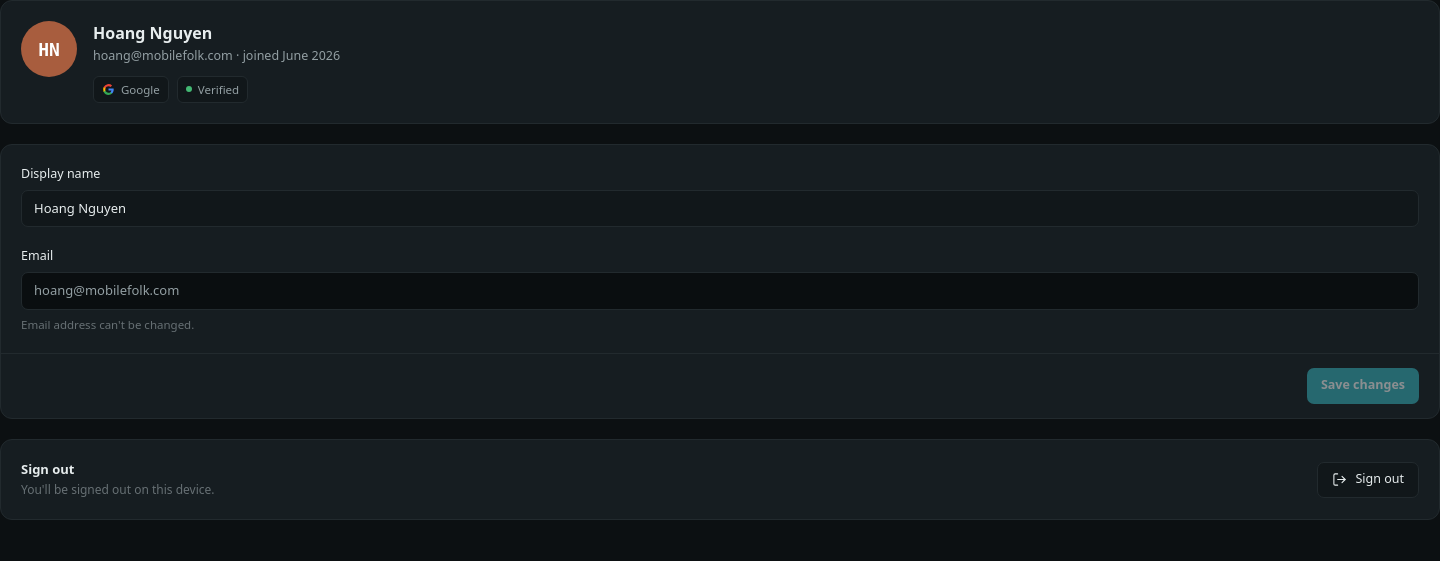
Test: account-settings S-002 — Account section › AS-007: clearing the display name and saving is refused; the stored name is unchanged (no updateUser)
The image size is (1440, 561).
Clear the field with test id "account-display-name" at (720, 209), box [21,190,1419,227]
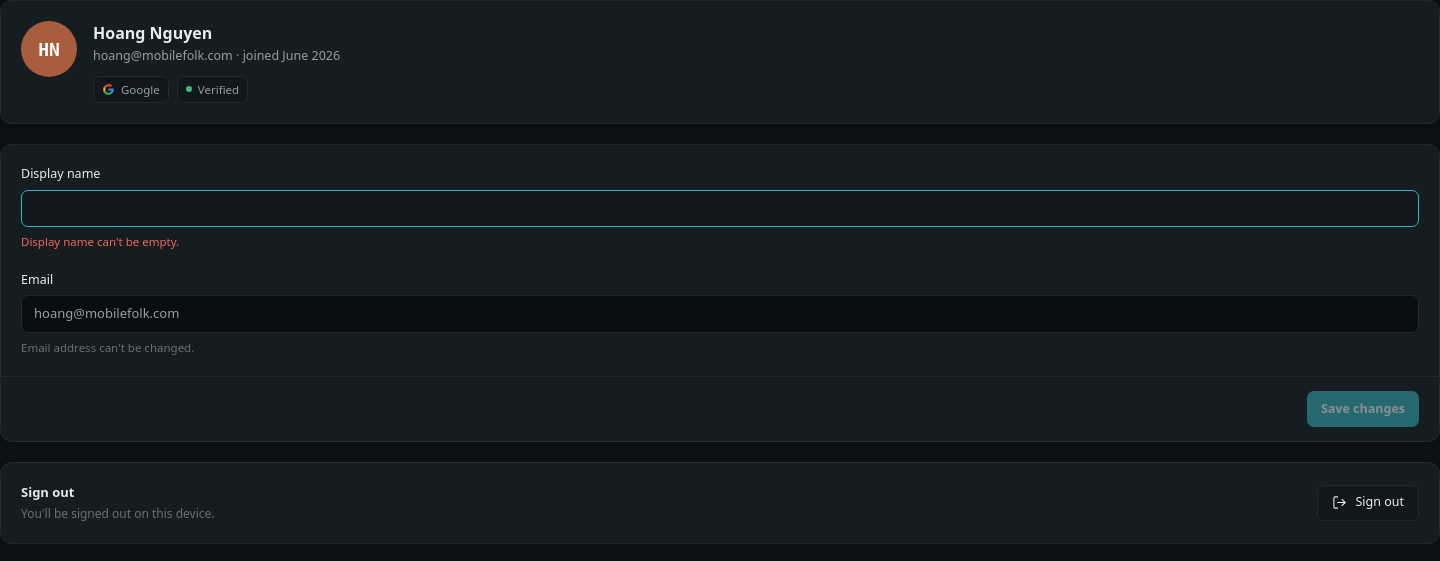
Expected: the button with test id "account-save" is disabled, [1307,391,1419,427]
Expected: the text with test id "account-name-error" shows "empty", [21,234,179,249]
